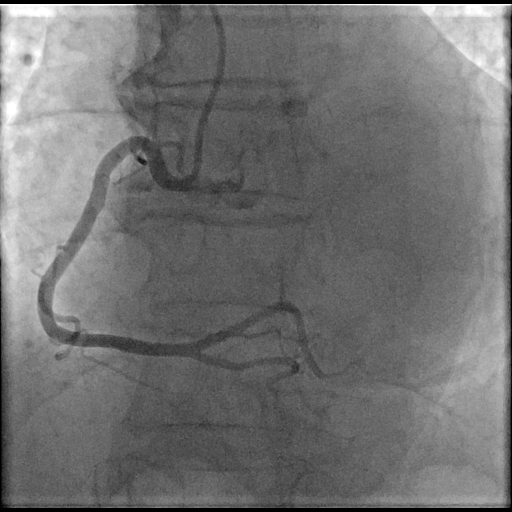RCA: (38, 139, 316, 371)
catherter: (194, 8, 227, 178)
